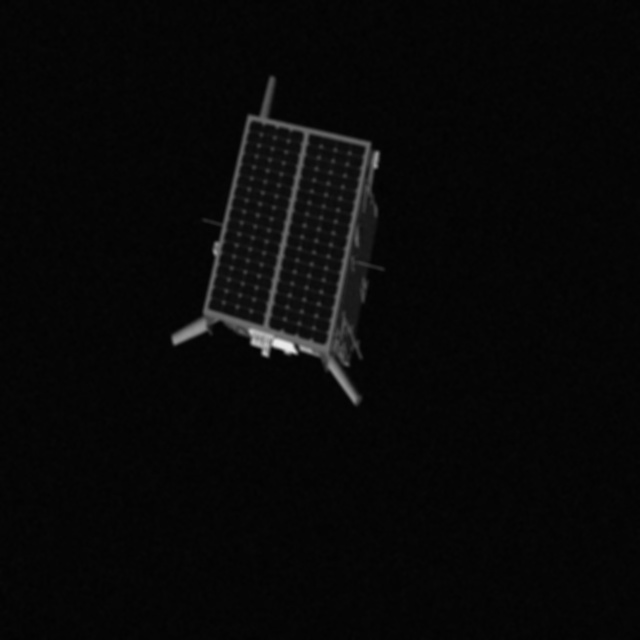satellite: (170, 70, 394, 418)
